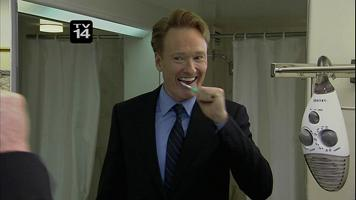person: (96, 10, 275, 199)
